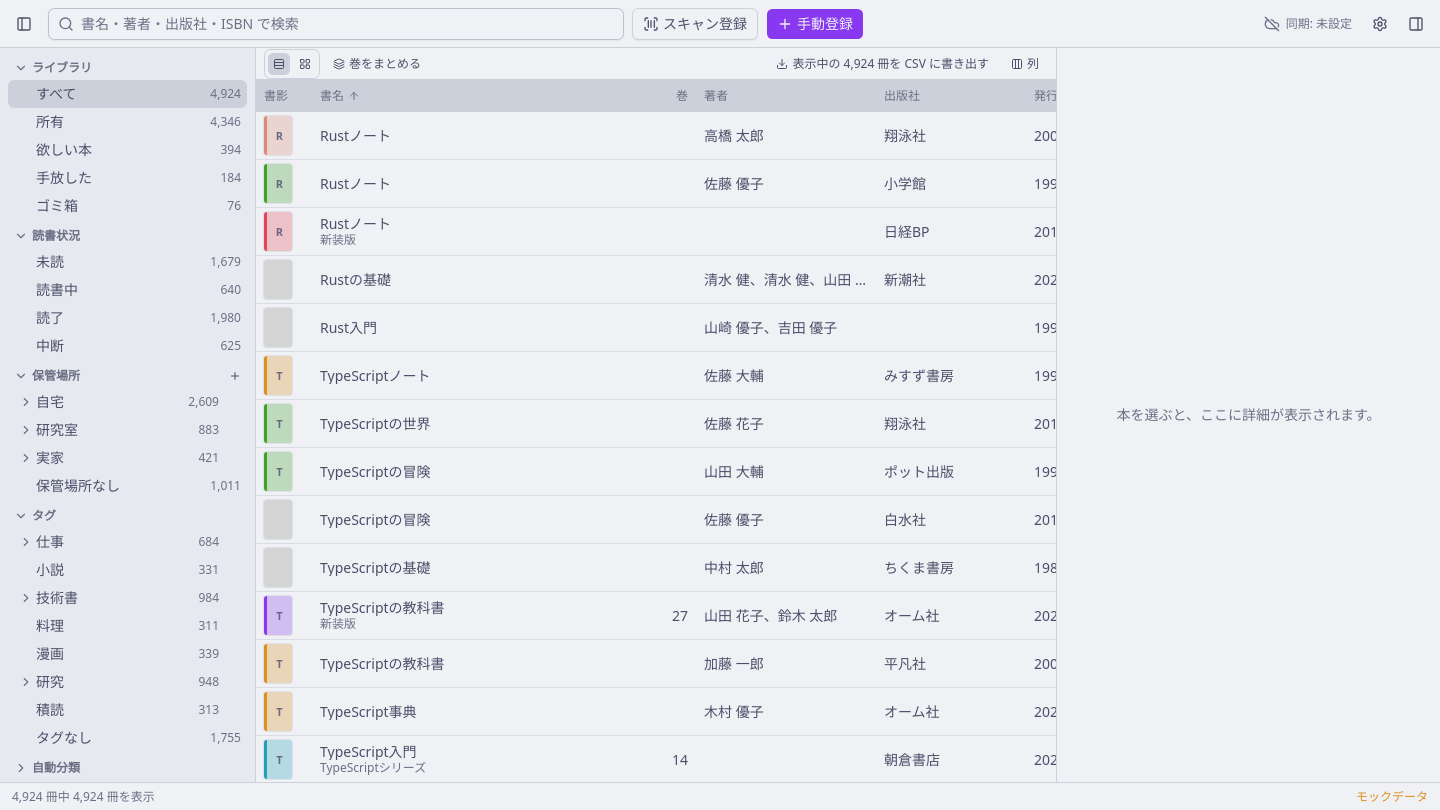
App（ブラウザ。バックエンドなしでモックのデータで動く） › 行を選ぶと、詳細ペインにその本が出る
This screenshot has width=1440, height=810.
Expected: the table is shown, [256,80,1056,782]
Expected: the text "本を選ぶと、ここに詳細が表示されます。" is shown, [1116,405,1380,425]
Click the row.
click(848, 136)  # box [256,112,1439,160]
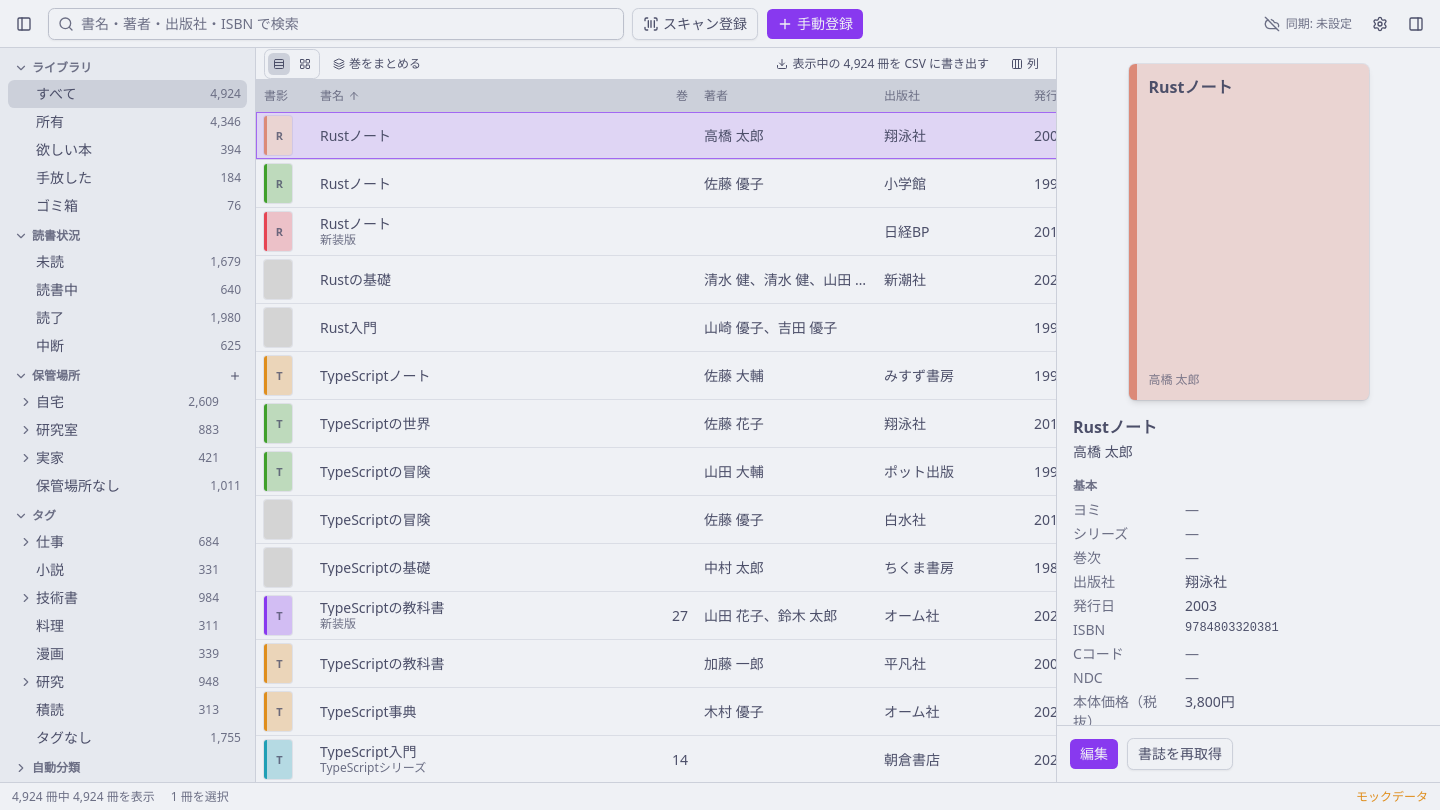
Expected: the 1st heading shows "Ru", [1073,416,1157,438]
